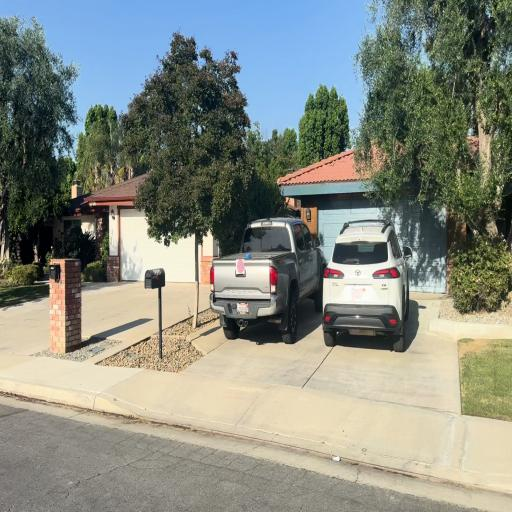bullseye: (237, 259, 245, 274)
